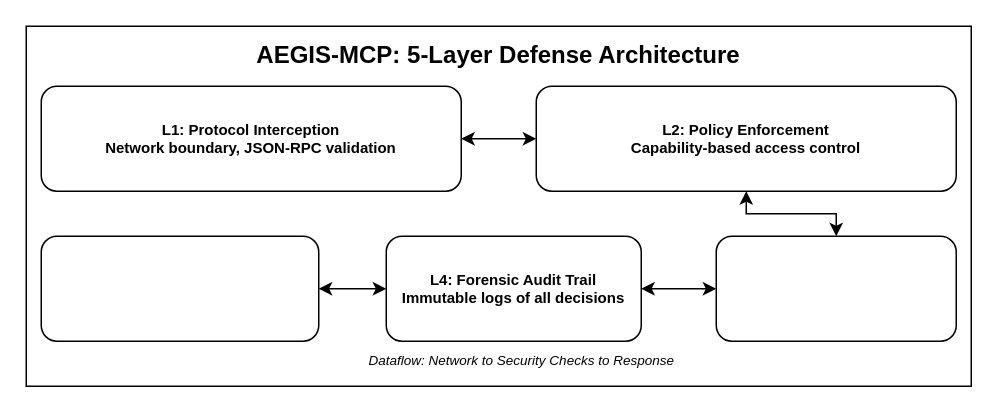
Some shapes in this 998 by 413 pixel diagram are drawn without their labels. Each missing label, with the centre of its shape:
"L3: Trust Attestation (ATS) Agent Trust Score computation" belongs at [835,288].
"L5: Alert & Response Real-time alerts, Automated response" belongs at [179,288].
